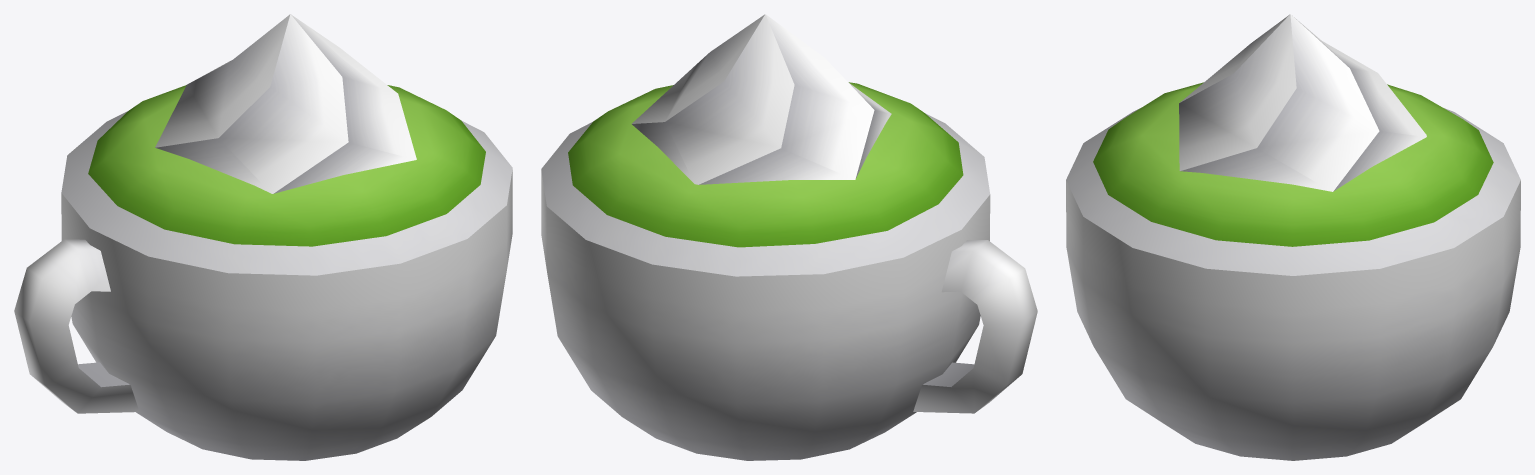
The model's file is m_Cup02_Matcha04.fbx.
3 renders of one model, left to right at view 1: azimuth 30°, elevation 25°; view 2: azimuth 150°, elevation 25°; view 3: azimuth 270°, elevation 25°, orthographic.
Parts seen in each view (by area): view 1: m_Cup02_Matcha04; view 2: m_Cup02_Matcha04; view 3: m_Cup02_Matcha04.
Boxes of the visible parts, bbox=[...] form: m_Cup02_Matcha04: bbox=[14, 14, 512, 460]; m_Cup02_Matcha04: bbox=[541, 14, 1037, 460]; m_Cup02_Matcha04: bbox=[1066, 14, 1520, 460].
Bounding box in the file's own units: 14.87 × 11.97 × 12.68.
